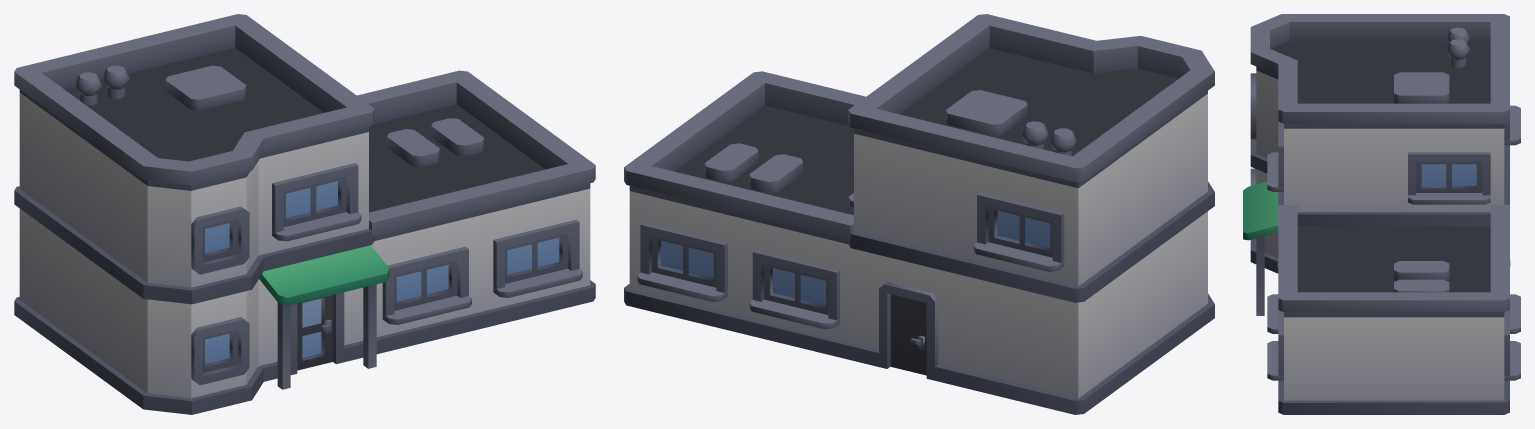
File: shopA.glb
3 views of the same model, side by side, from view 1: azimuth 30°, elevation 25°; view 2: azimuth 150°, elevation 25°; view 3: azimuth 270°, elevation 25° (orthographic). The views are drawn at different scales.
Visible parts, largest first — view 1: shopA; view 2: shopA; view 3: shopA.
Boxes of the visible parts, x1,y1,x2,y2 form: shopA: (14, 14, 595, 414); shopA: (624, 14, 1214, 414); shopA: (1243, 14, 1520, 414).
Size of the model in its own units: 15 by 7.8 by 9.22.
